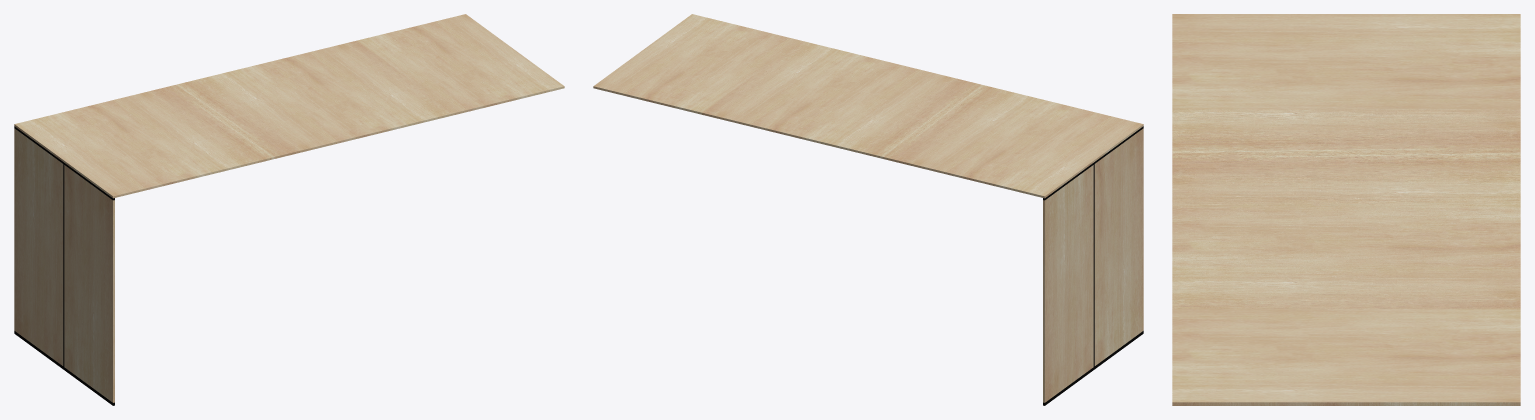
The model's file is rear-top-plywood.glb.
The picture shows the model from 3 angles, left to right: view 1: azimuth 30°, elevation 25°; view 2: azimuth 150°, elevation 25°; view 3: azimuth 270°, elevation 25°; orthographic projection. The views are drawn at different scales.
Visible parts, largest first — view 1: 20FT HC Blank_Plywood_reartop, Obj_20FT HC Blank_Plywood_reartop, Obj_20FT HC Blank_Plywood_reartop_1, Obj_20FT HC Blank_Plywood_reartop_2, Obj_20FT HC Blank_Plywood_reartop_3, Obj_20FT HC Blank_Plywood_reartop_5, Obj_20FT HC Blank_Plywood_reartop_4; view 2: 20FT HC Blank_Plywood_reartop, Obj_20FT HC Blank_Plywood_reartop, Obj_20FT HC Blank_Plywood_reartop_1, Obj_20FT HC Blank_Plywood_reartop_2, Obj_20FT HC Blank_Plywood_reartop_5, Obj_20FT HC Blank_Plywood_reartop_3, Obj_20FT HC Blank_Plywood_reartop_4; view 3: 20FT HC Blank_Plywood_reartop, Obj_20FT HC Blank_Plywood_reartop, Obj_20FT HC Blank_Plywood_reartop_2, Obj_20FT HC Blank_Plywood_reartop_1.
Part boxes in pixels (left/top/right/bottom): 20FT HC Blank_Plywood_reartop: left=240, top=40, right=455, bottom=143; Obj_20FT HC Blank_Plywood_reartop: left=126, top=69, right=338, bottom=171; Obj_20FT HC Blank_Plywood_reartop_1: left=14, top=97, right=224, bottom=198; Obj_20FT HC Blank_Plywood_reartop_2: left=357, top=14, right=564, bottom=114; Obj_20FT HC Blank_Plywood_reartop_3: left=64, top=165, right=114, bottom=402; Obj_20FT HC Blank_Plywood_reartop_5: left=14, top=128, right=63, bottom=365; Obj_20FT HC Blank_Plywood_reartop_4: left=14, top=126, right=114, bottom=405; 20FT HC Blank_Plywood_reartop: left=702, top=40, right=917, bottom=143; Obj_20FT HC Blank_Plywood_reartop: left=819, top=69, right=1031, bottom=171; Obj_20FT HC Blank_Plywood_reartop_1: left=933, top=97, right=1143, bottom=198; Obj_20FT HC Blank_Plywood_reartop_2: left=593, top=14, right=800, bottom=114; Obj_20FT HC Blank_Plywood_reartop_5: left=1043, top=165, right=1093, bottom=402; Obj_20FT HC Blank_Plywood_reartop_3: left=1094, top=128, right=1143, bottom=365; Obj_20FT HC Blank_Plywood_reartop_4: left=1043, top=126, right=1143, bottom=405; 20FT HC Blank_Plywood_reartop: left=1172, top=208, right=1520, bottom=308; Obj_20FT HC Blank_Plywood_reartop: left=1172, top=109, right=1520, bottom=207; Obj_20FT HC Blank_Plywood_reartop_2: left=1172, top=308, right=1520, bottom=405; Obj_20FT HC Blank_Plywood_reartop_1: left=1172, top=14, right=1520, bottom=109.
Size of the model in its own units: 5.87 by 2.61 by 2.22.
Materials: 2 (1 with a texture image).
